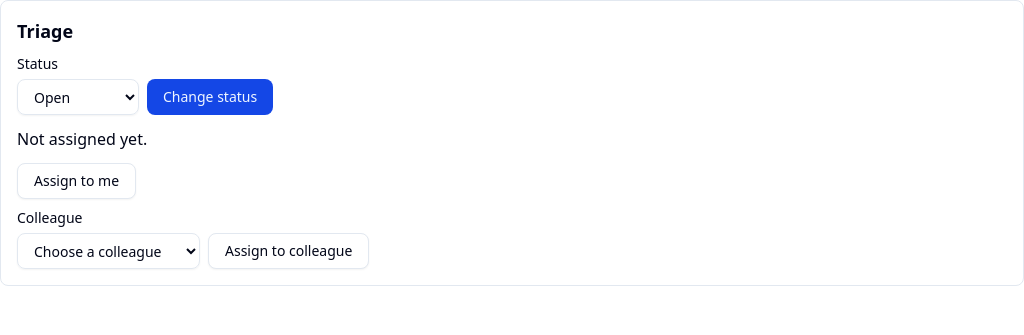
it: a status that cannot be changed says so
Select "Closed" in the dropdown labelled "Status": x=78, y=97 [17,79,139,115]
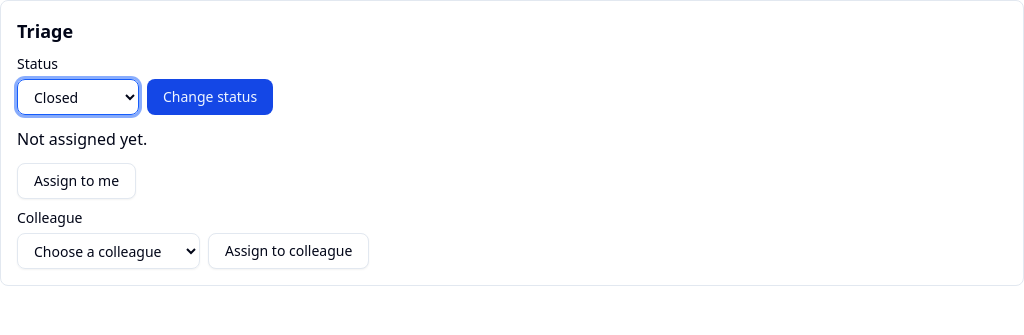
Click the button "Change status": x=210, y=97 [147,79,273,115]
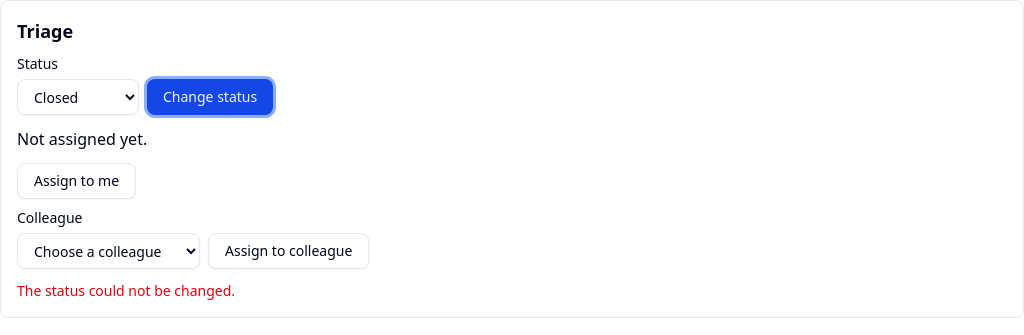
expect the message reads "The status could not be changed.": met, box [17,281,235,300]
